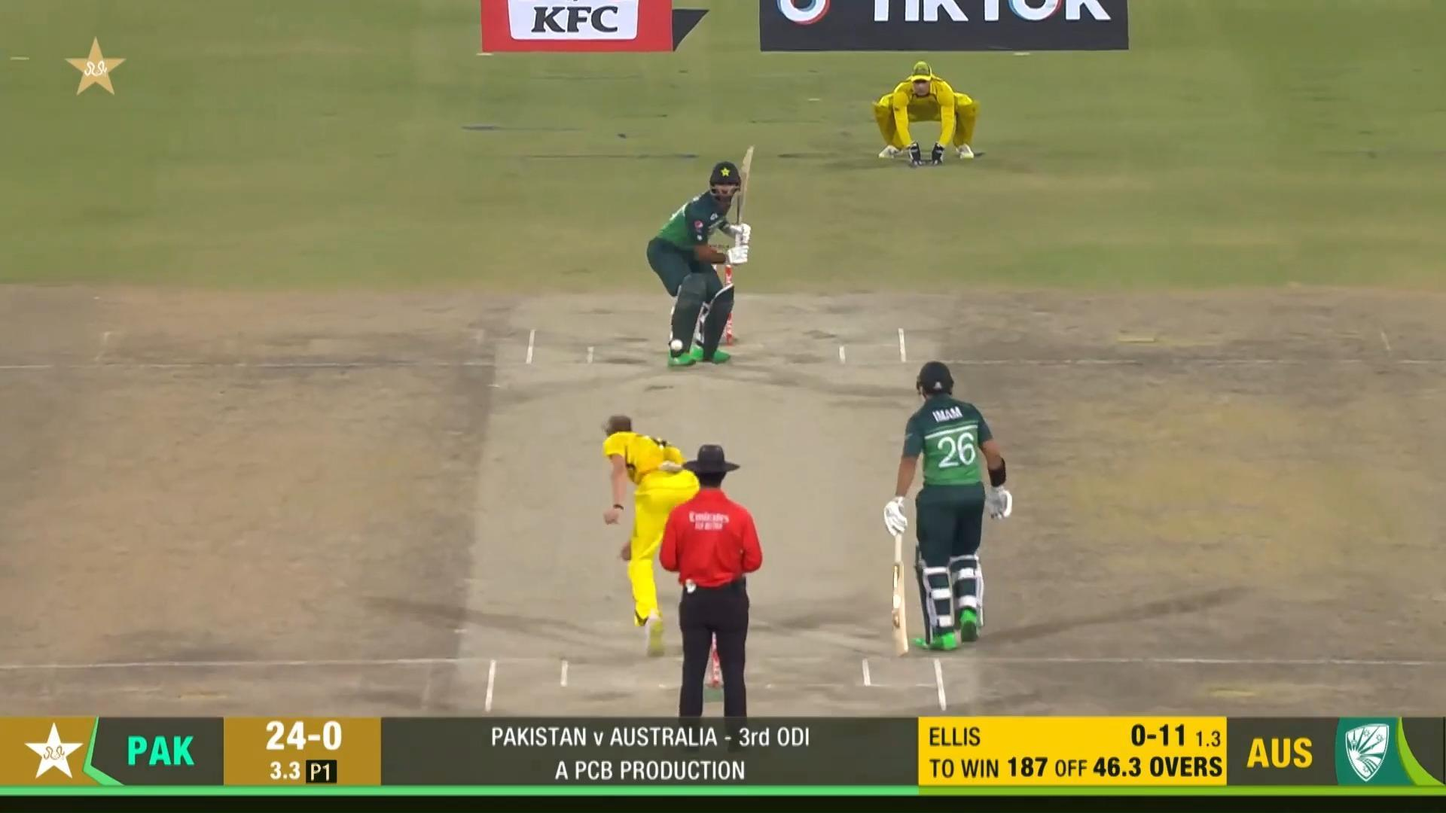BM 1: (647, 146, 754, 368)
BO: (602, 414, 701, 660)
